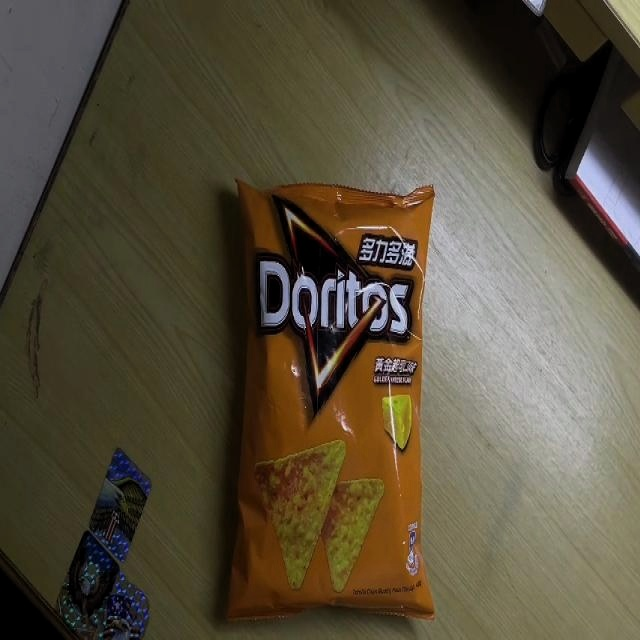Doritos: (228, 172, 436, 621)
